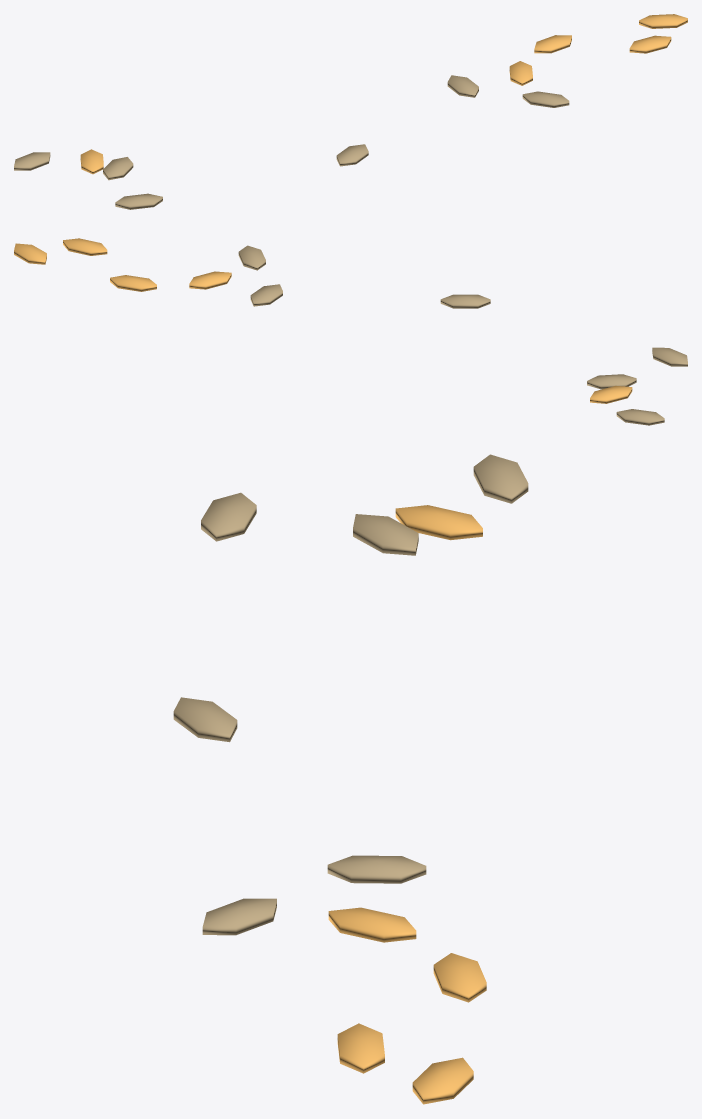
Rendered from layer_autumn_edge_low.glb.
3 views of the same model, one above another, from view 1: azimuth 30°, elevation 25°; view 2: azimuth 150°, elevation 25°; view 3: azimuth 270°, elevation 25° (orthographic). The views are drawn at different scales.
Bounding box in the file's own units: 2.79 × 0.0349 × 0.6519.
